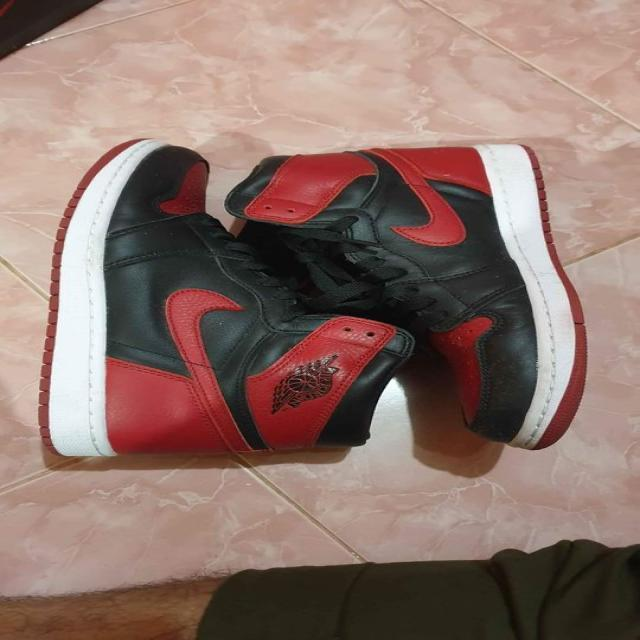nike original jordan 1: (38, 138, 414, 464), (222, 143, 590, 450)
